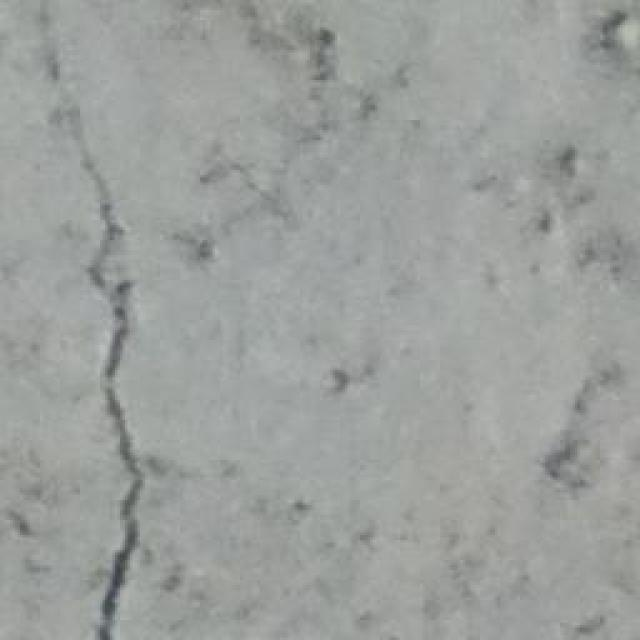Longitudinal: (36, 0, 147, 640)
